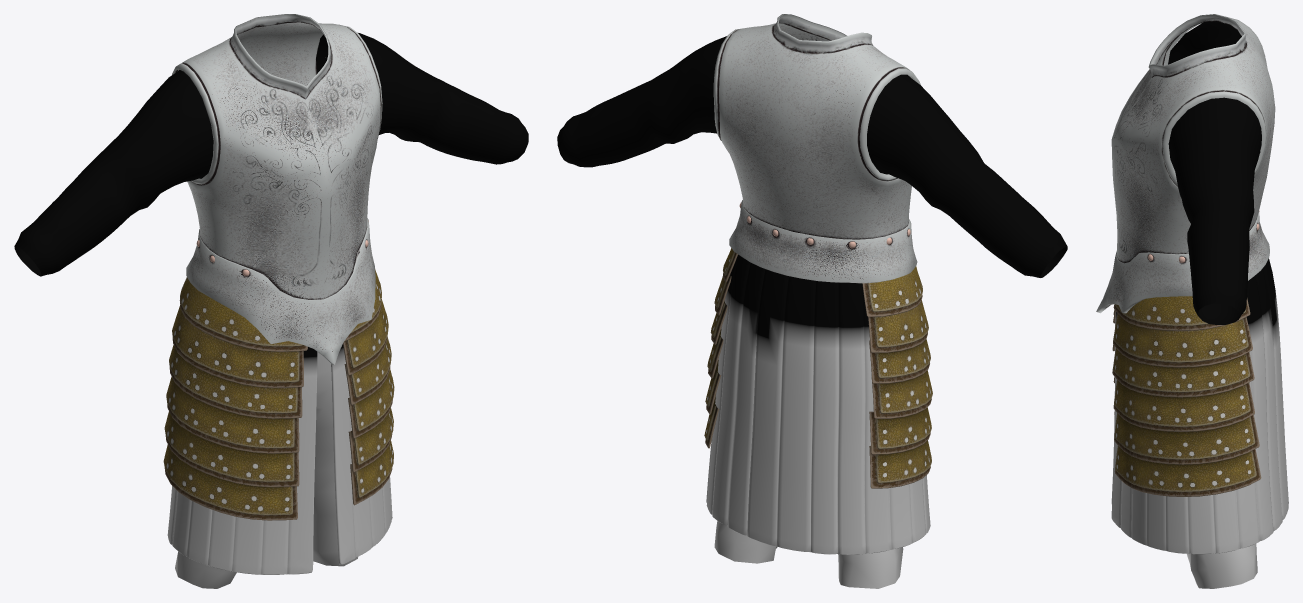
The model's file is rgva_chest_ver2.fbx.
The picture shows the model from 3 angles, left to right: view 1: azimuth 30°, elevation 25°; view 2: azimuth 150°, elevation 25°; view 3: azimuth 270°, elevation 25°; orthographic projection. The views are drawn at different scales.
Parts seen in each view (by area): view 1: rgva_chest_ver2.0, rgva_chest_ver2.1, rgva_chest_ver2.2, rgva_chest_ver2.3; view 2: rgva_chest_ver2.1, rgva_chest_ver2.0, rgva_chest_ver2.2, rgva_chest_ver2.3; view 3: rgva_chest_ver2.1, rgva_chest_ver2.2, rgva_chest_ver2.0, rgva_chest_ver2.3.
Boxes of the visible parts, x1=… form: rgva_chest_ver2.0: x1=172, y1=14, x2=382, y2=364; rgva_chest_ver2.1: x1=14, y1=33, x2=528, y2=574; rgva_chest_ver2.2: x1=163, y1=269, x2=394, y2=520; rgva_chest_ver2.3: x1=175, y1=352, x2=357, y2=588; rgva_chest_ver2.1: x1=557, y1=36, x2=1067, y2=554; rgva_chest_ver2.0: x1=713, y1=14, x2=920, y2=283; rgva_chest_ver2.2: x1=704, y1=248, x2=932, y2=488; rgva_chest_ver2.3: x1=714, y1=521, x2=903, y2=588; rgva_chest_ver2.1: x1=1111, y1=21, x2=1288, y2=554; rgva_chest_ver2.2: x1=1112, y1=296, x2=1261, y2=496; rgva_chest_ver2.0: x1=1096, y1=14, x2=1275, y2=313; rgva_chest_ver2.3: x1=1187, y1=544, x2=1257, y2=588.
Bounding box in the file's own units: 1.18 × 0.4089 × 1.23.
